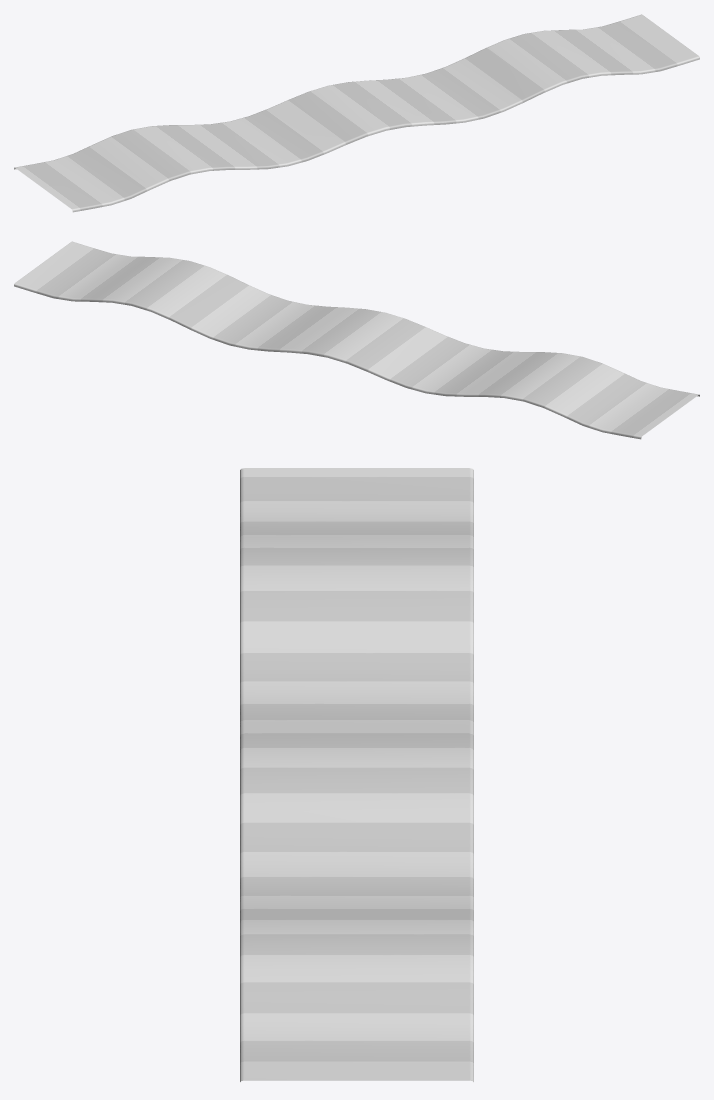
File: Pathgeo3.fbx
3 views of the same model, one above another, from view 1: azimuth 30°, elevation 25°; view 2: azimuth 150°, elevation 25°; view 3: azimuth 270°, elevation 25° (orthographic). The views are drawn at different scales.
Visible parts, largest first — view 1: Path3; view 2: Path3; view 3: Path3.
Part boxes in pixels (box(x1,y1,x2,y2)): Path3: box(14, 14, 699, 212); Path3: box(14, 241, 699, 439); Path3: box(240, 468, 473, 1081).
Size of the model in its own units: 29.84 by 0.8332 by 4.82.
